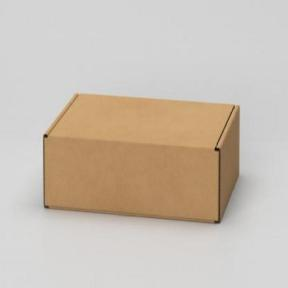box: (36, 84, 246, 228)
